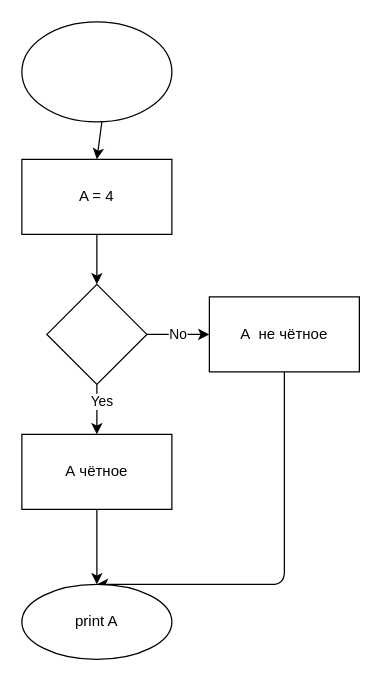
Image size: 381x681. Some labels were removed from this diagram. Each missing label, with the centre of its shape:
"A % 2 == 0" belongs at (x=96, y=333).
"Start" belongs at (x=96, y=71).
